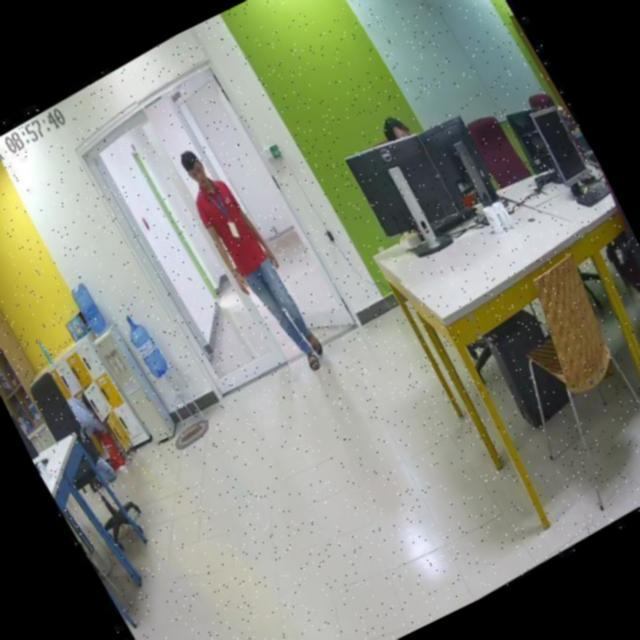person: (166, 134, 334, 388)
